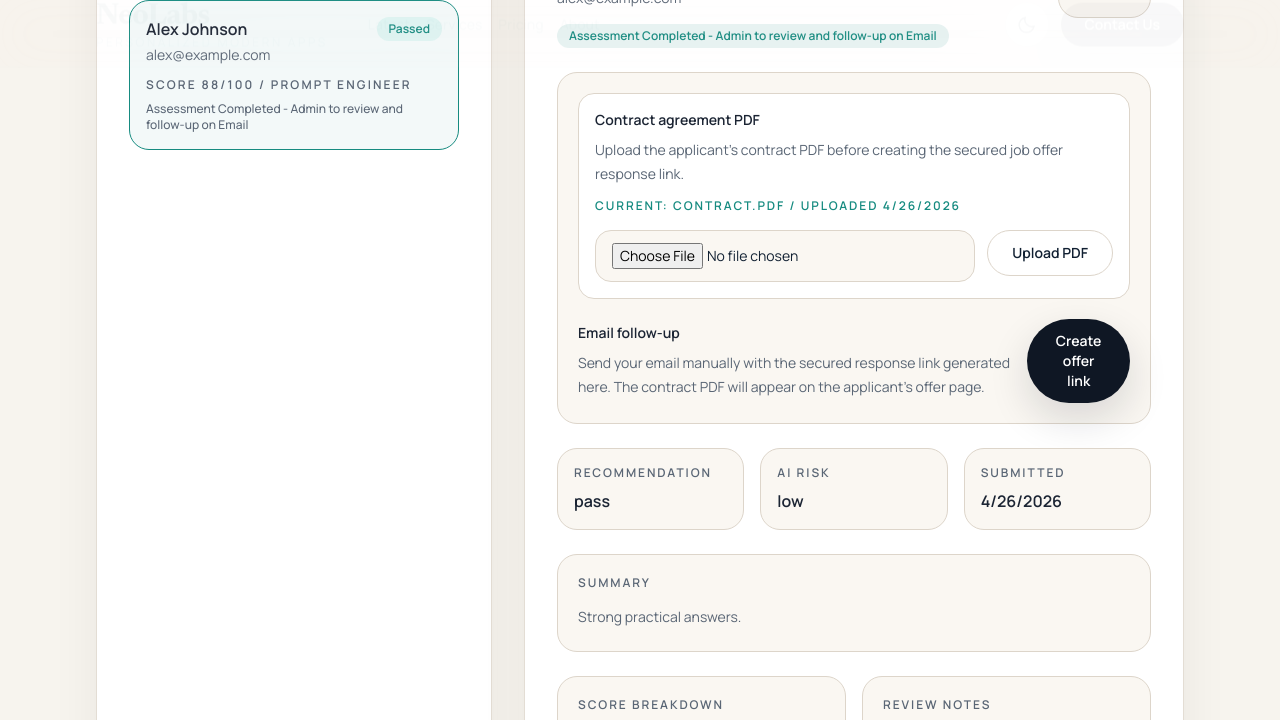
it: CareerAdmin page › marks follow-up sent and displays the secured offer response link
(page scrolled)
Click the button "Create offer link": (1079, 360) x1=1027 y1=318 x2=1130 y2=402
(page scrolled)
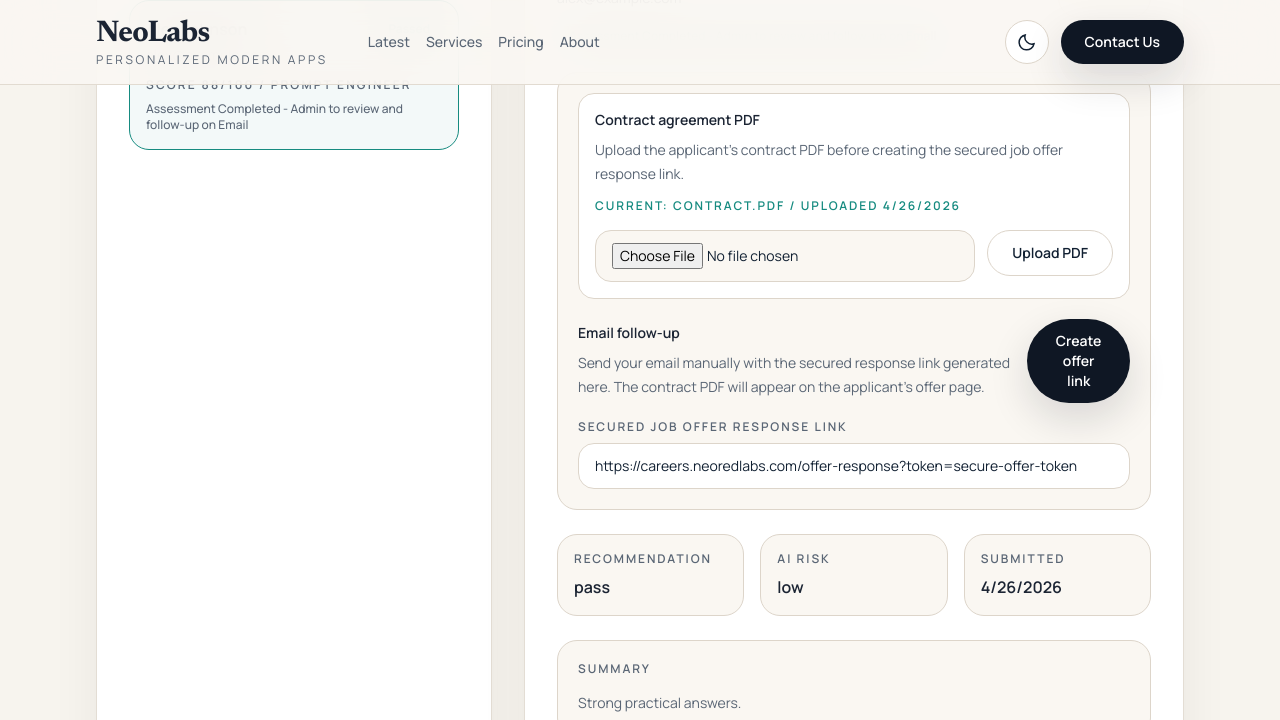
Check: the field showing "https://careers.neoredlabs.com/offer-response?token=secure-offer-token" is shown, box x1=578 y1=442 x2=1130 y2=488
